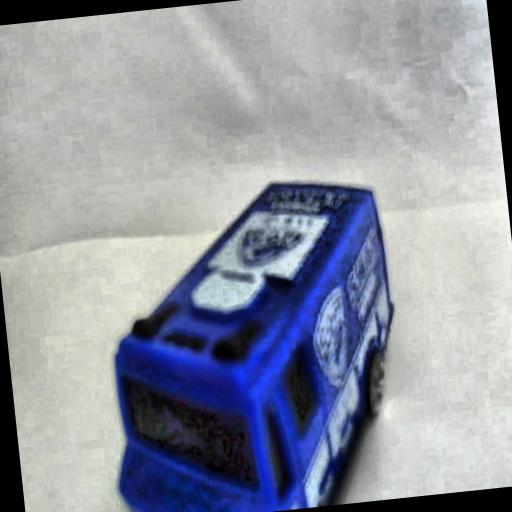police car: (93, 165, 416, 512)
